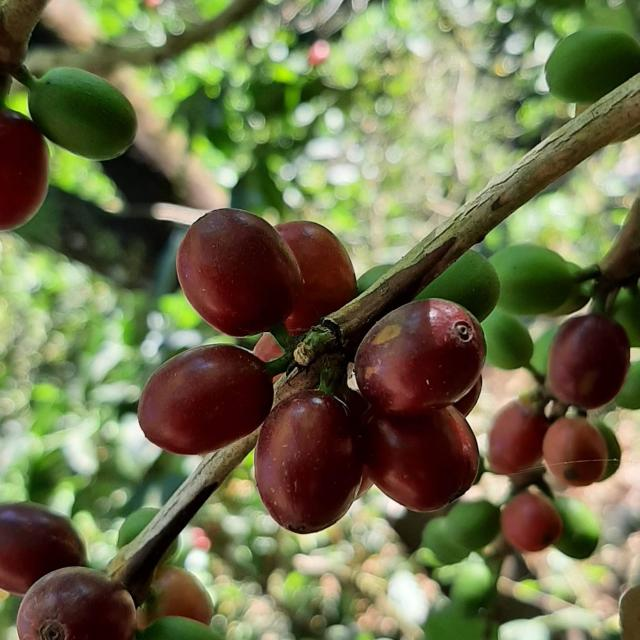green: (27, 67, 136, 159), (490, 244, 587, 316), (546, 28, 640, 102), (415, 250, 501, 321), (482, 309, 534, 370), (555, 498, 602, 560), (448, 501, 501, 551)
red: (176, 208, 303, 337), (355, 298, 487, 418), (254, 390, 363, 535), (137, 344, 274, 455), (364, 406, 480, 513), (275, 221, 356, 336), (15, 568, 136, 640), (548, 313, 631, 410), (0, 503, 86, 596), (0, 107, 48, 230), (544, 417, 609, 487), (489, 401, 550, 475), (502, 488, 564, 552)
yellow: (146, 567, 213, 626)
